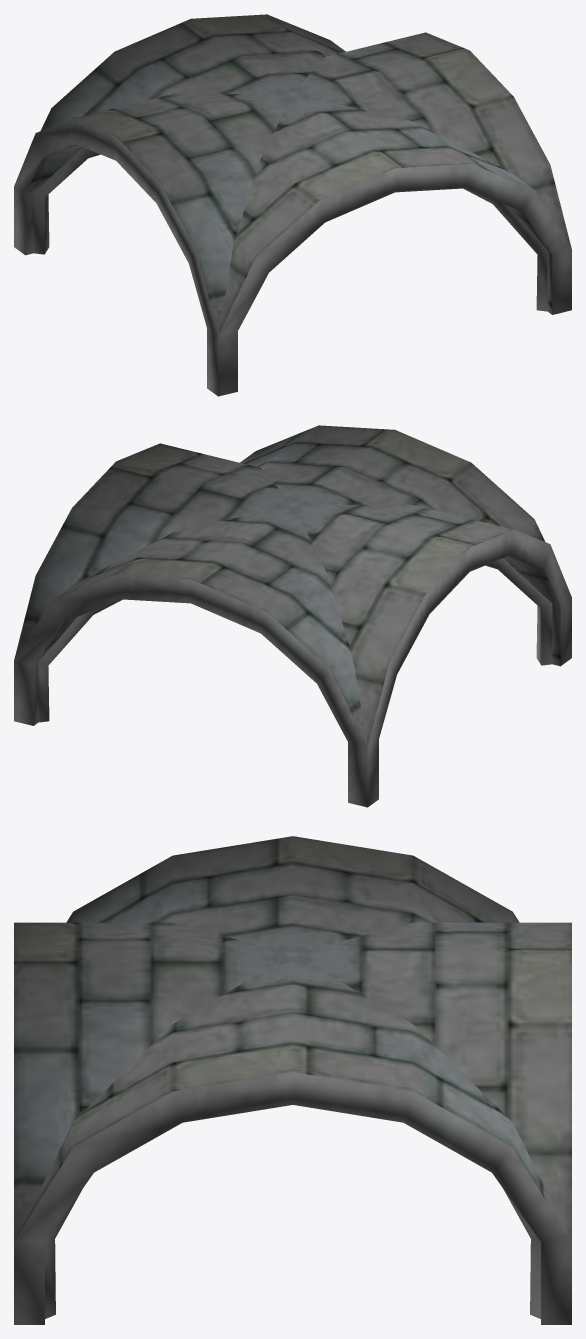
The model's file is sd_vault_ceiling_large_01.glb.
3 views of the same model, one above another, from view 1: azimuth 30°, elevation 25°; view 2: azimuth 150°, elevation 25°; view 3: azimuth 270°, elevation 25° (orthographic). The views are drawn at different scales.
Parts seen in each view (by area): view 1: vault_ceiling_large_01; view 2: vault_ceiling_large_01; view 3: vault_ceiling_large_01.
Part boxes in pixels (left/top/right/bottom): vault_ceiling_large_01: left=14, top=14, right=571, bottom=396; vault_ceiling_large_01: left=14, top=425, right=571, bottom=807; vault_ceiling_large_01: left=14, top=836, right=571, bottom=1324.
Size of the model in its own units: 4 by 2 by 4.
1 material, 1 textured.
